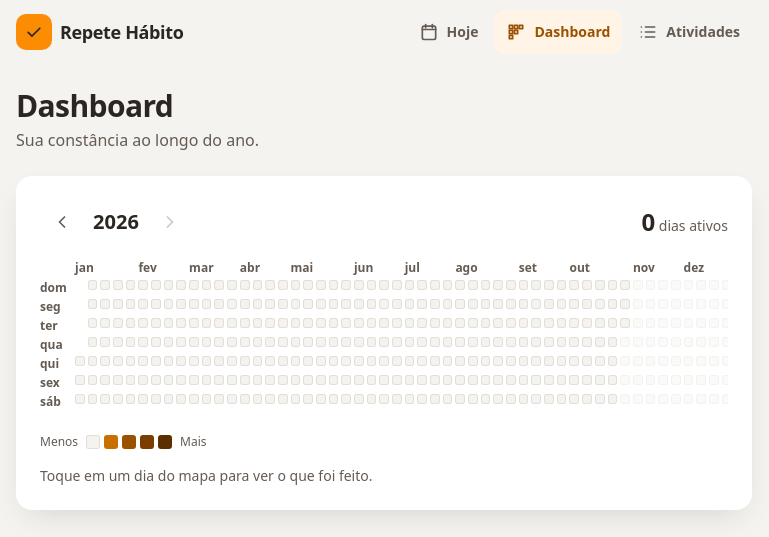
Test: DashboardView › navega entre os anos com registros
Check: the button named "Próximo ano" is disabled, box x1=148 y1=200 x2=192 y2=244
Click the button named "Ano anterior" at [62, 222], box x1=40 y1=200 x2=84 y2=244
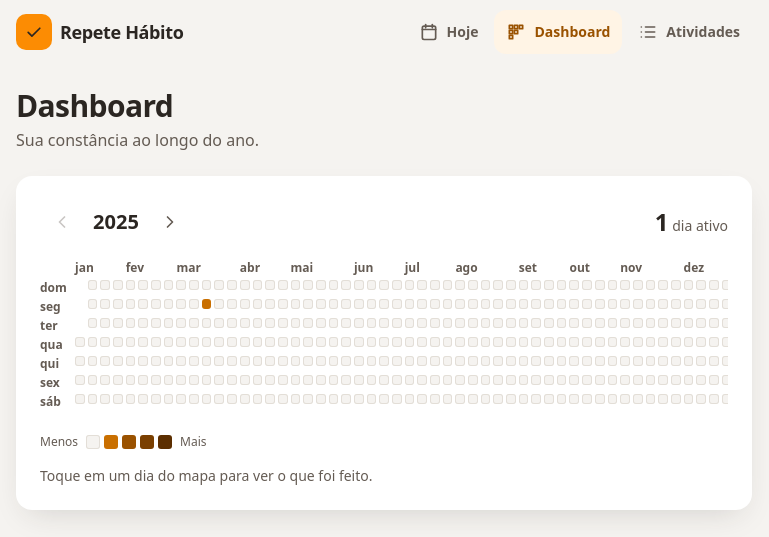
Check: the table named "Mapa de atividades de 2025" is shown, box x1=40 y1=280 x2=728 y2=410
Check: the text "dia ativo" reads "1 dia ativo", box x1=655 y1=206 x2=728 y2=238
